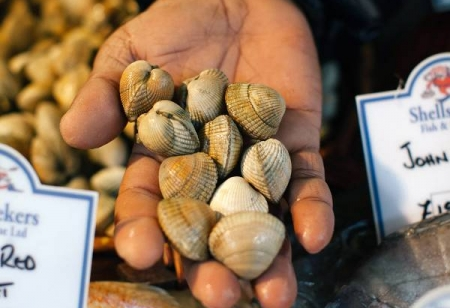cockle: (206, 210, 287, 281), (155, 198, 215, 263), (136, 99, 203, 156), (224, 83, 287, 138), (118, 58, 173, 120), (240, 138, 293, 201), (157, 153, 218, 202), (178, 68, 229, 123), (202, 114, 244, 180), (211, 176, 270, 214)
